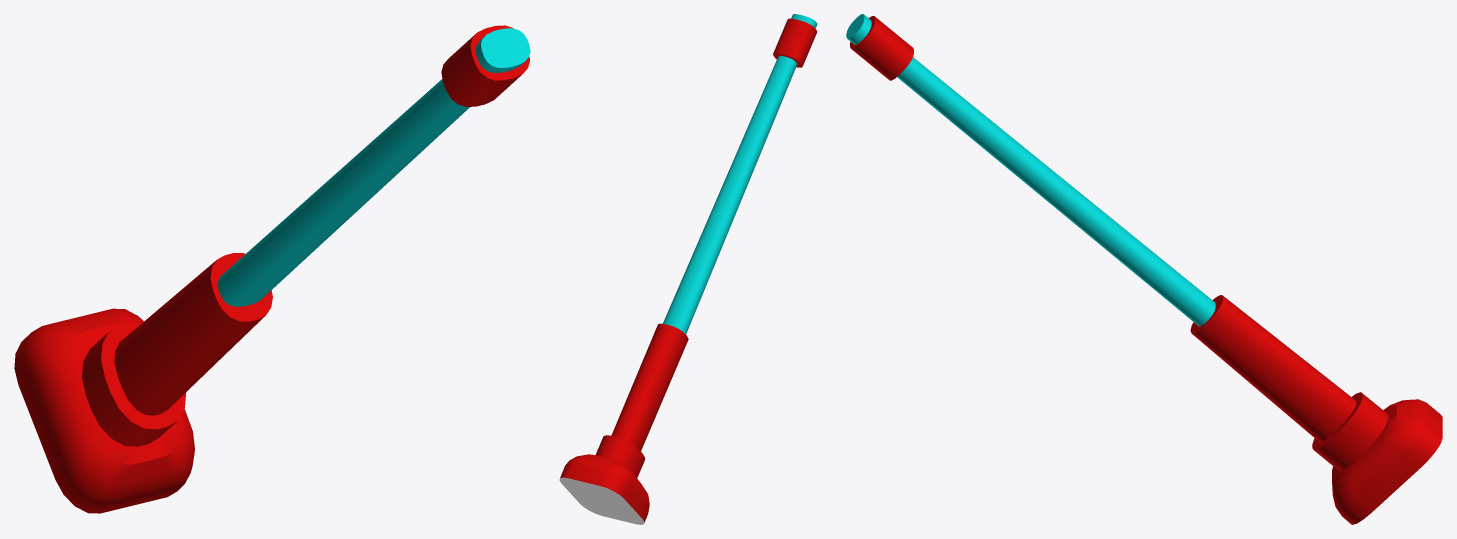
File: SM_leverHandle.fbx
3 views of the same model, side by side, from view 1: azimuth 30°, elevation 25°; view 2: azimuth 150°, elevation 25°; view 3: azimuth 270°, elevation 25° (orthographic). The views are drawn at different scales.
Visible parts, largest first — view 1: Cube.011; view 2: Cube.011; view 3: Cube.011.
Boxes of the visible parts, x1=… form: Cube.011: x1=14, y1=25, x2=530, y2=513; Cube.011: x1=559, y1=14, x2=817, y2=524; Cube.011: x1=846, y1=14, x2=1442, y2=524.
Bounding box in the file's own units: 8.77 × 49.64 × 54.23.
